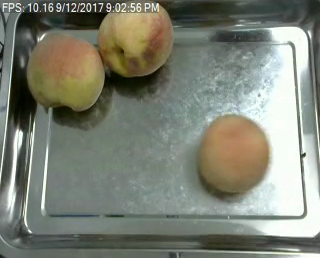Peach: (27, 28, 104, 111), (98, 0, 174, 77), (198, 114, 270, 195)
